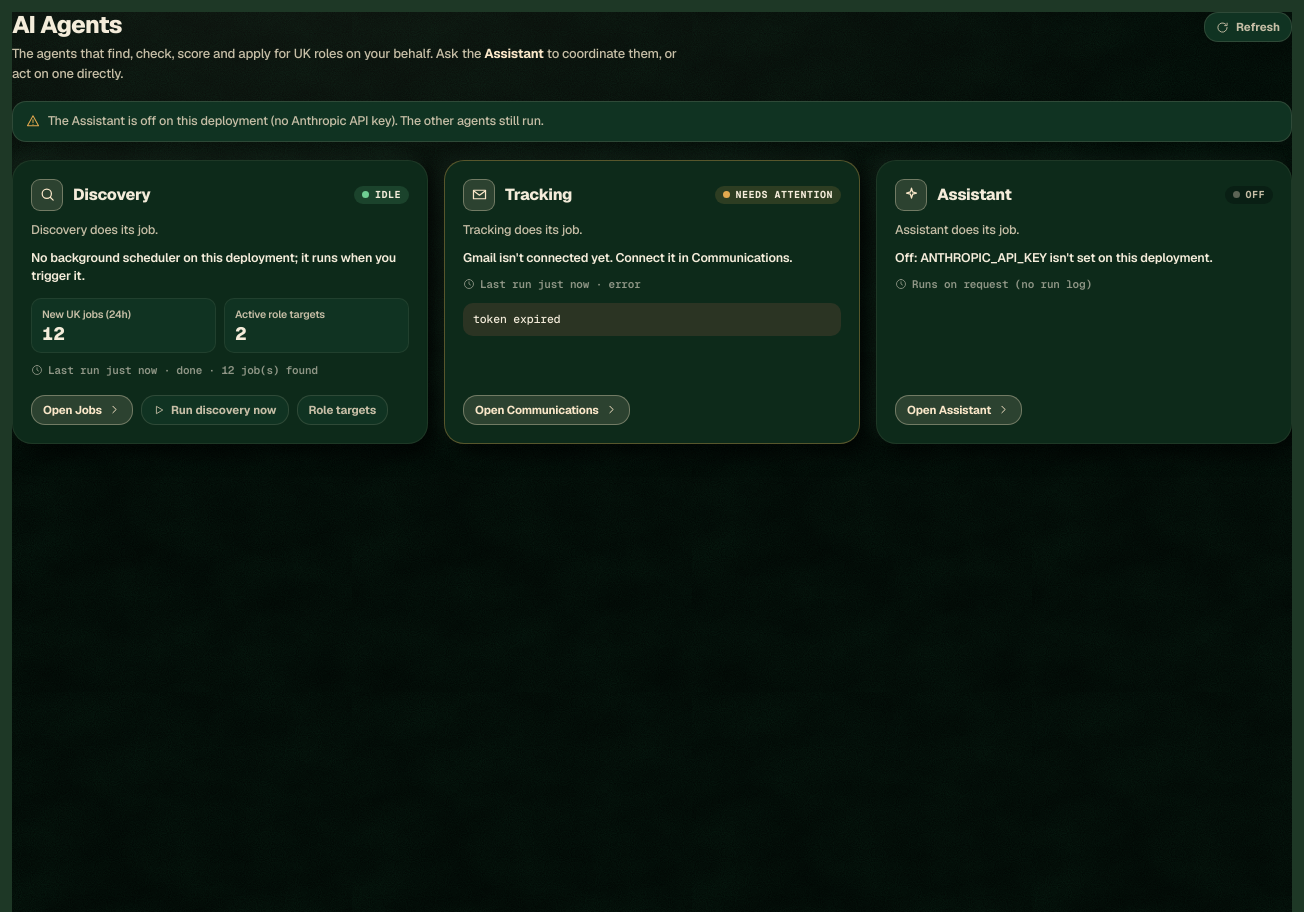
Test case: AgentsPage › shows why an action is unavailable
This screenshot has width=1304, height=912.
Expected: the heading "Discovery" is shown, x1=73 y1=184 x2=151 y2=205
Click the button "Run discovery now" at (215,410), box x1=141 y1=395 x2=289 y2=425
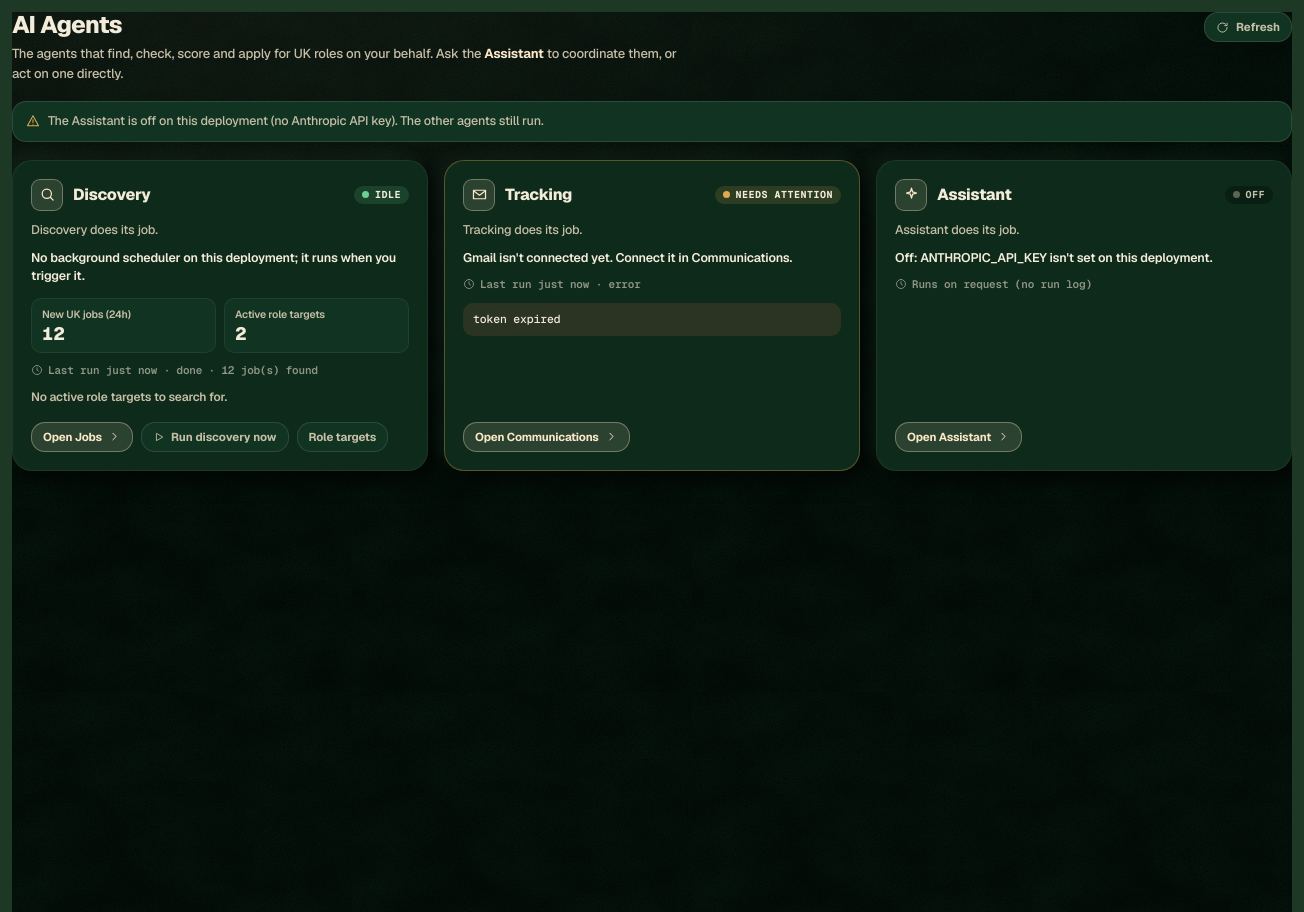
Expected: the text "No active role targets to search for." is shown, x1=31 y1=389 x2=227 y2=405
